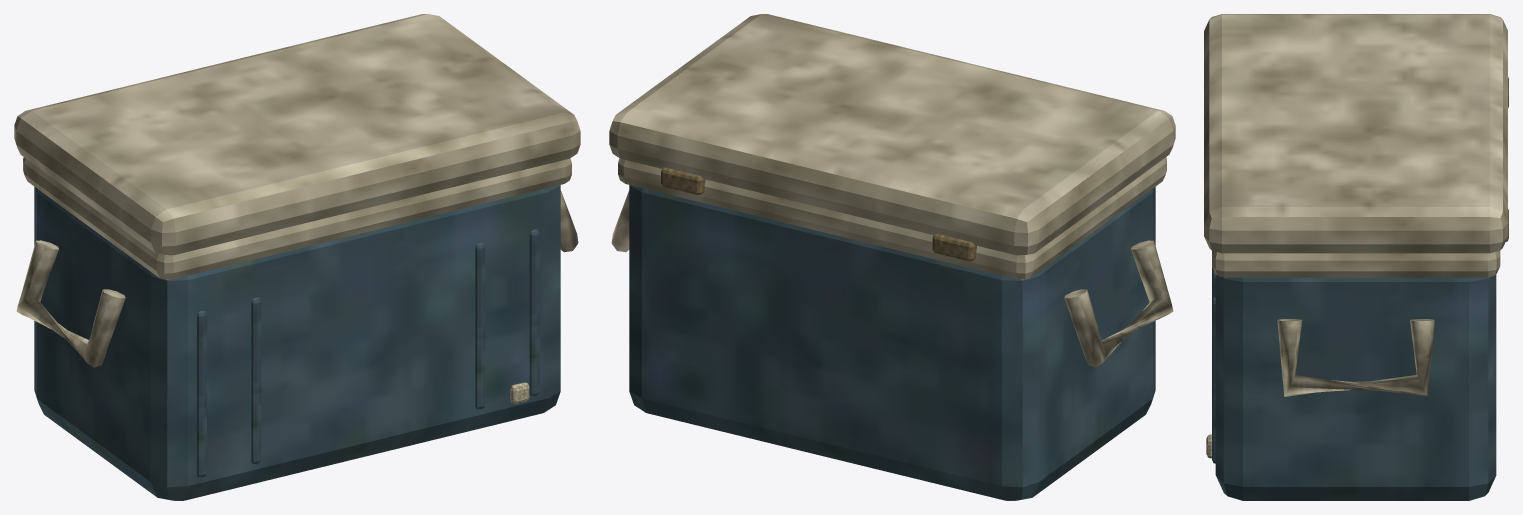
File: by_cooler.glb
3 renders of one model, left to right at view 1: azimuth 30°, elevation 25°; view 2: azimuth 150°, elevation 25°; view 3: azimuth 270°, elevation 25°, orthographic.
Visible parts, largest first — view 1: by_cooler; view 2: by_cooler; view 3: by_cooler.
Part boxes in pixels (left/top/right/bottom): by_cooler: left=14, top=14, right=580, bottom=500; by_cooler: left=609, top=14, right=1175, bottom=500; by_cooler: left=1204, top=14, right=1508, bottom=500.
Bounding box in the file's own units: 0.7255 × 0.4275 × 0.391.
1 material, 1 textured.
